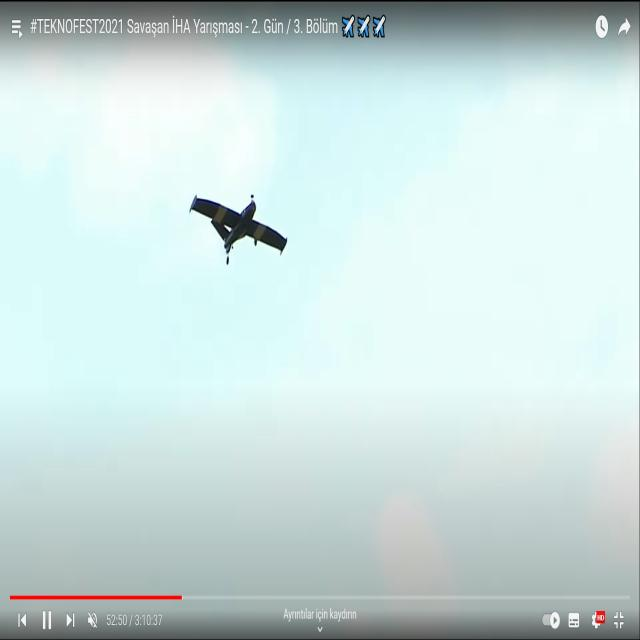iha: (221, 224, 256, 236)
